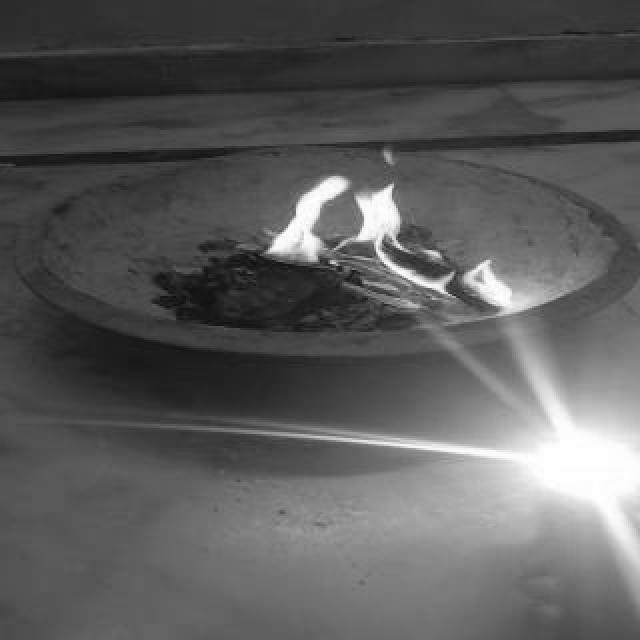Fire: (260, 164, 526, 322)
